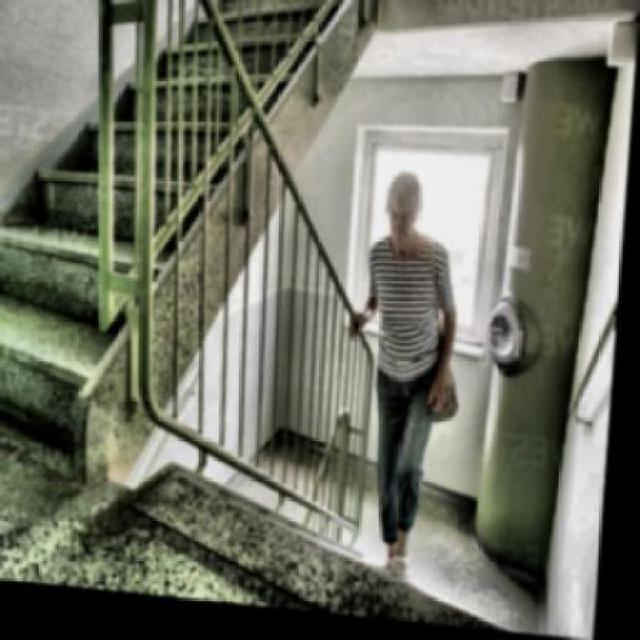stair: (2, 0, 400, 502)
